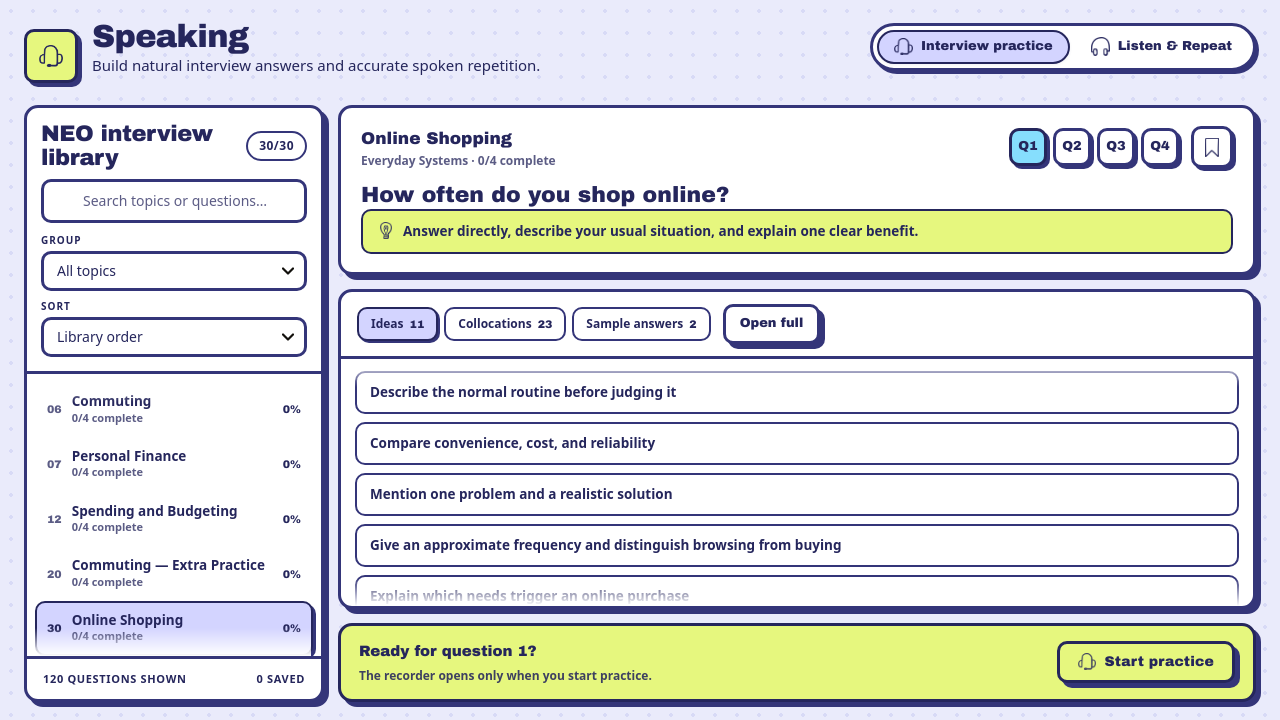
Scenario: SpeakingPage topic navigator › exposes a complete Q1-Q4 tab structure before opening the interview recorder
(page scrolled)
Click the tab "Q4": {"x": 1160, "y": 147} top-left (1141, 128), bottom-right (1179, 166)
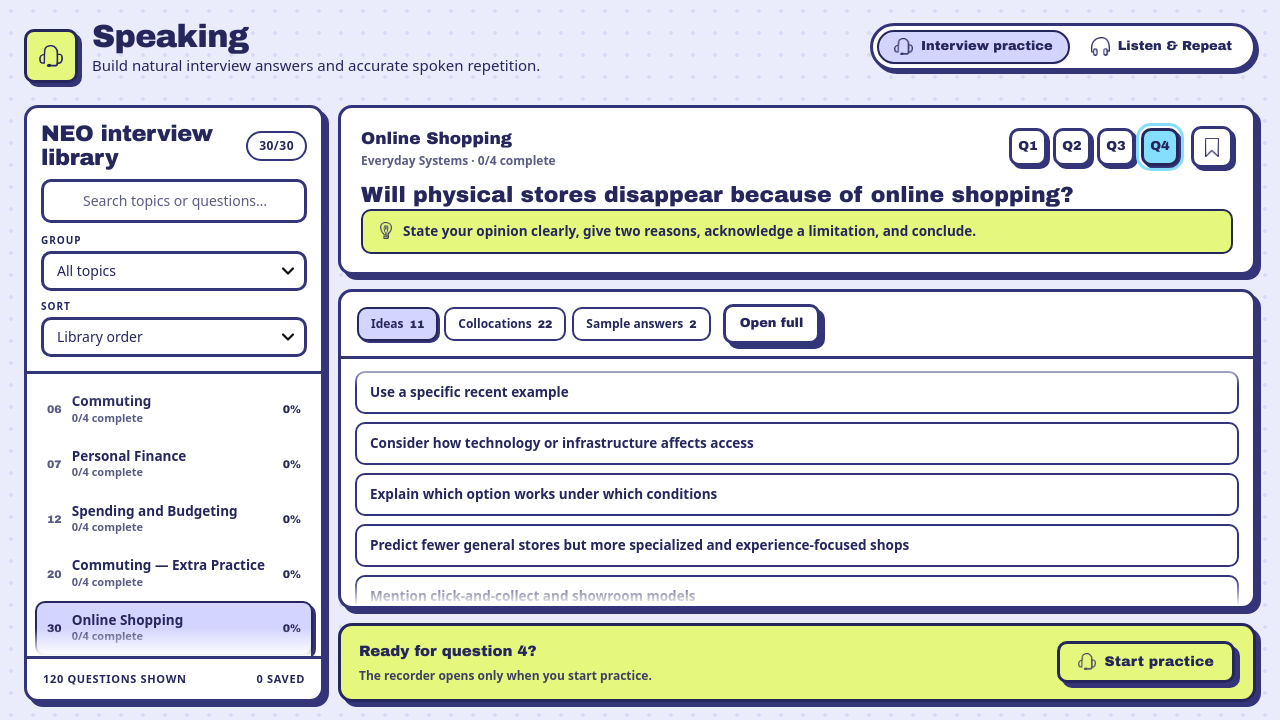
expect the panel shows "Will physical stores disappear because of online shopping?": met, box top-left (361, 183), bottom-right (1074, 207)
Click the button "Start practice": {"x": 1146, "y": 662} top-left (1056, 640), bottom-right (1235, 682)
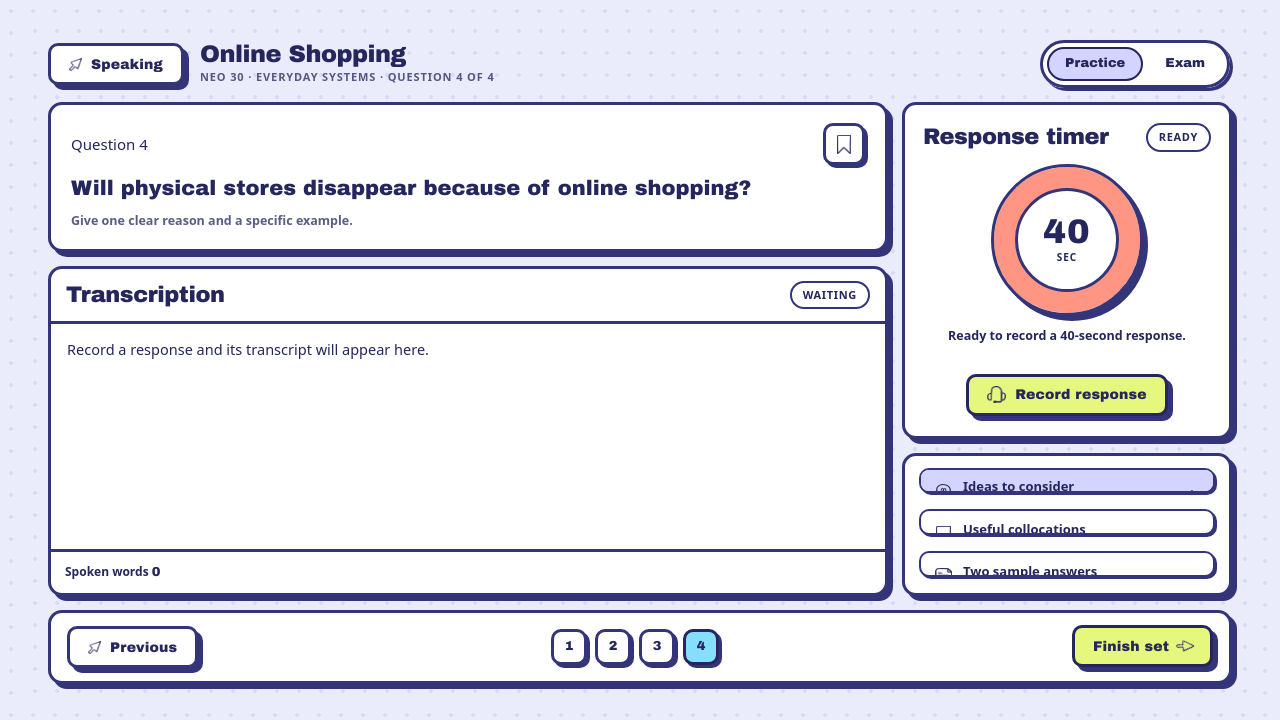
expect the text "Will physical stores disappear because of online shopping?" is shown: met, box top-left (71, 175), bottom-right (865, 202)
expect the heading "Online Shopping" is shown: met, box top-left (200, 42), bottom-right (406, 67)
expect the heading "Response timer" is shown: met, box top-left (923, 125), bottom-right (1109, 149)
